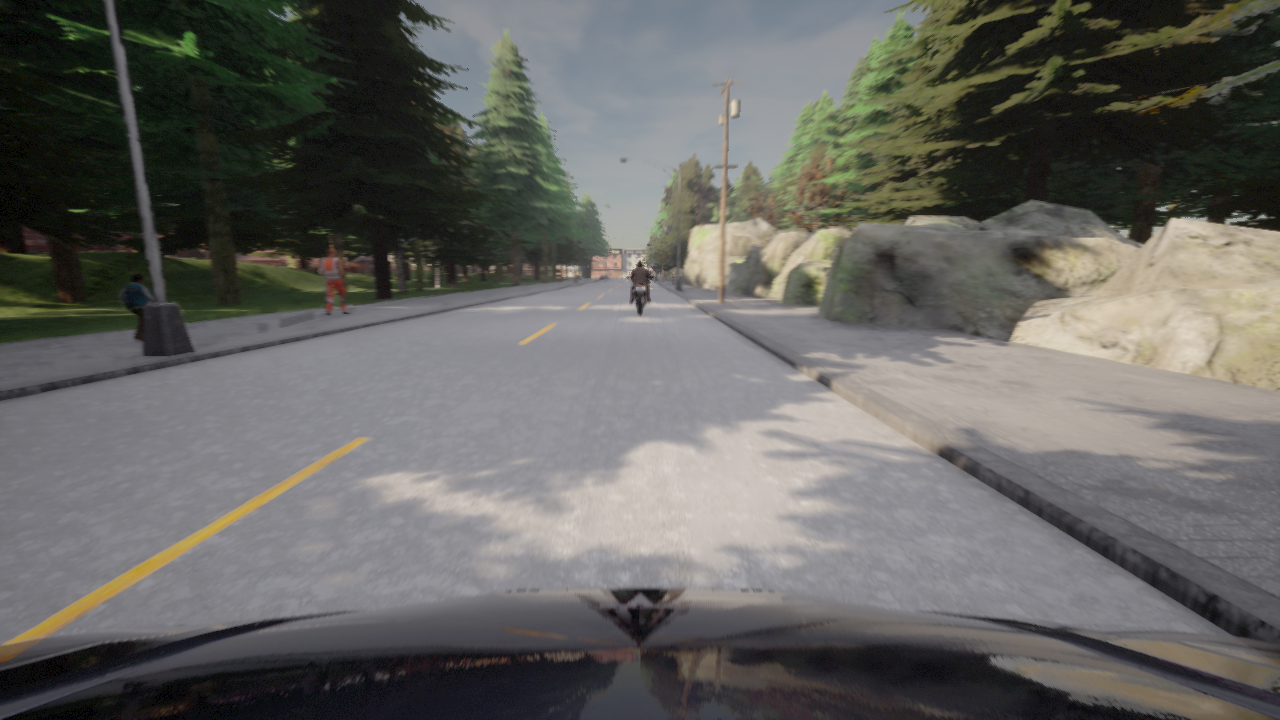cyclist: (0, 588, 1279, 719), (627, 277, 652, 315)
pedestrian: (119, 273, 154, 342), (319, 247, 351, 315), (558, 266, 562, 283), (671, 276, 674, 285), (559, 277, 560, 283)
